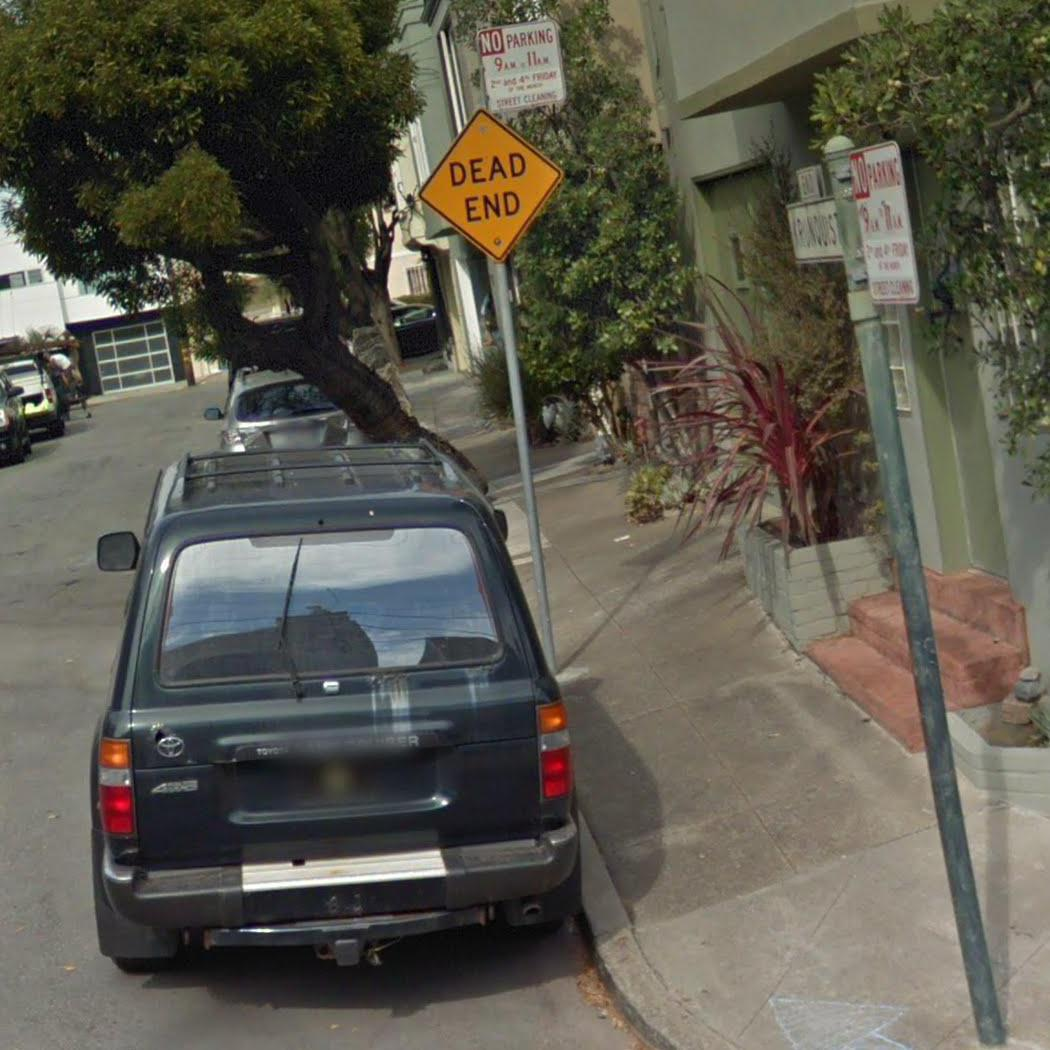No Parking: (842, 138, 927, 309), (470, 16, 571, 119)
